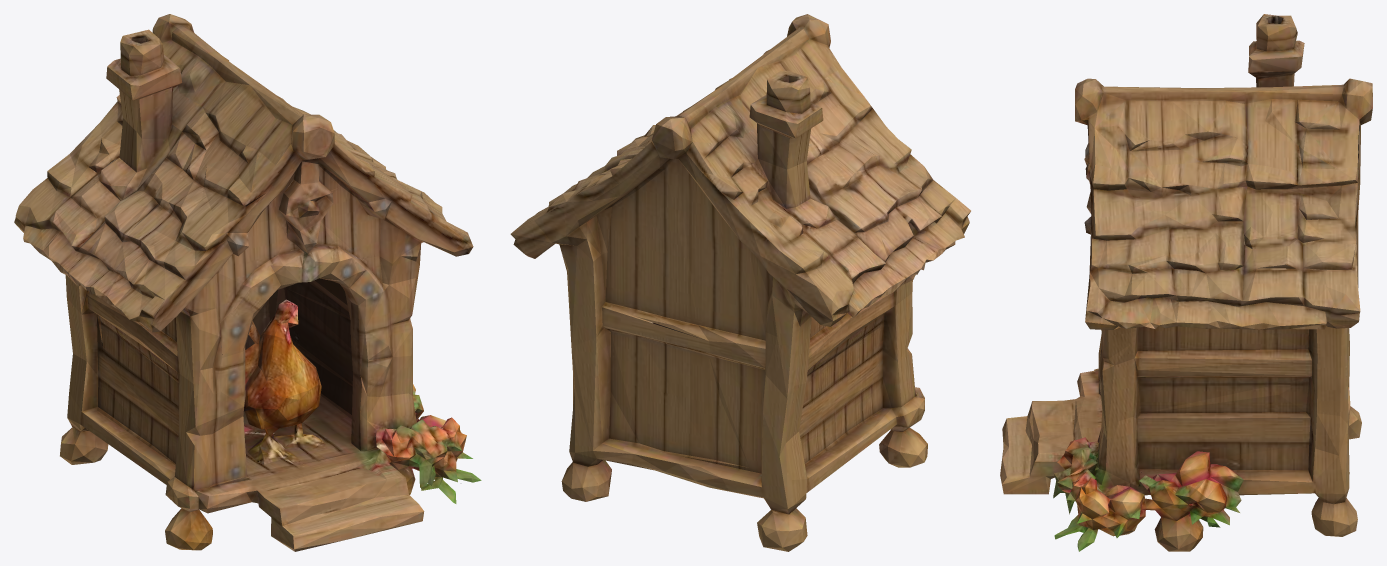
The model's file is chicken_coop_small_lod0.glb.
3 renders of one model, left to right at view 1: azimuth 30°, elevation 25°; view 2: azimuth 150°, elevation 25°; view 3: azimuth 270°, elevation 25°, orthographic. The views are drawn at different scales.
Parts seen in each view (by area): view 1: chicken_coop_small_lod0; view 2: chicken_coop_small_lod0; view 3: chicken_coop_small_lod0.
Boxes of the visible parts, x1=… form: chicken_coop_small_lod0: x1=14, y1=14, x2=481, y2=551; chicken_coop_small_lod0: x1=510, y1=14, x2=970, y2=551; chicken_coop_small_lod0: x1=1000, y1=14, x2=1372, y2=551.
Bounding box in the file's own units: 1.2 × 1.5 × 1.18.
1 material, 1 textured.
